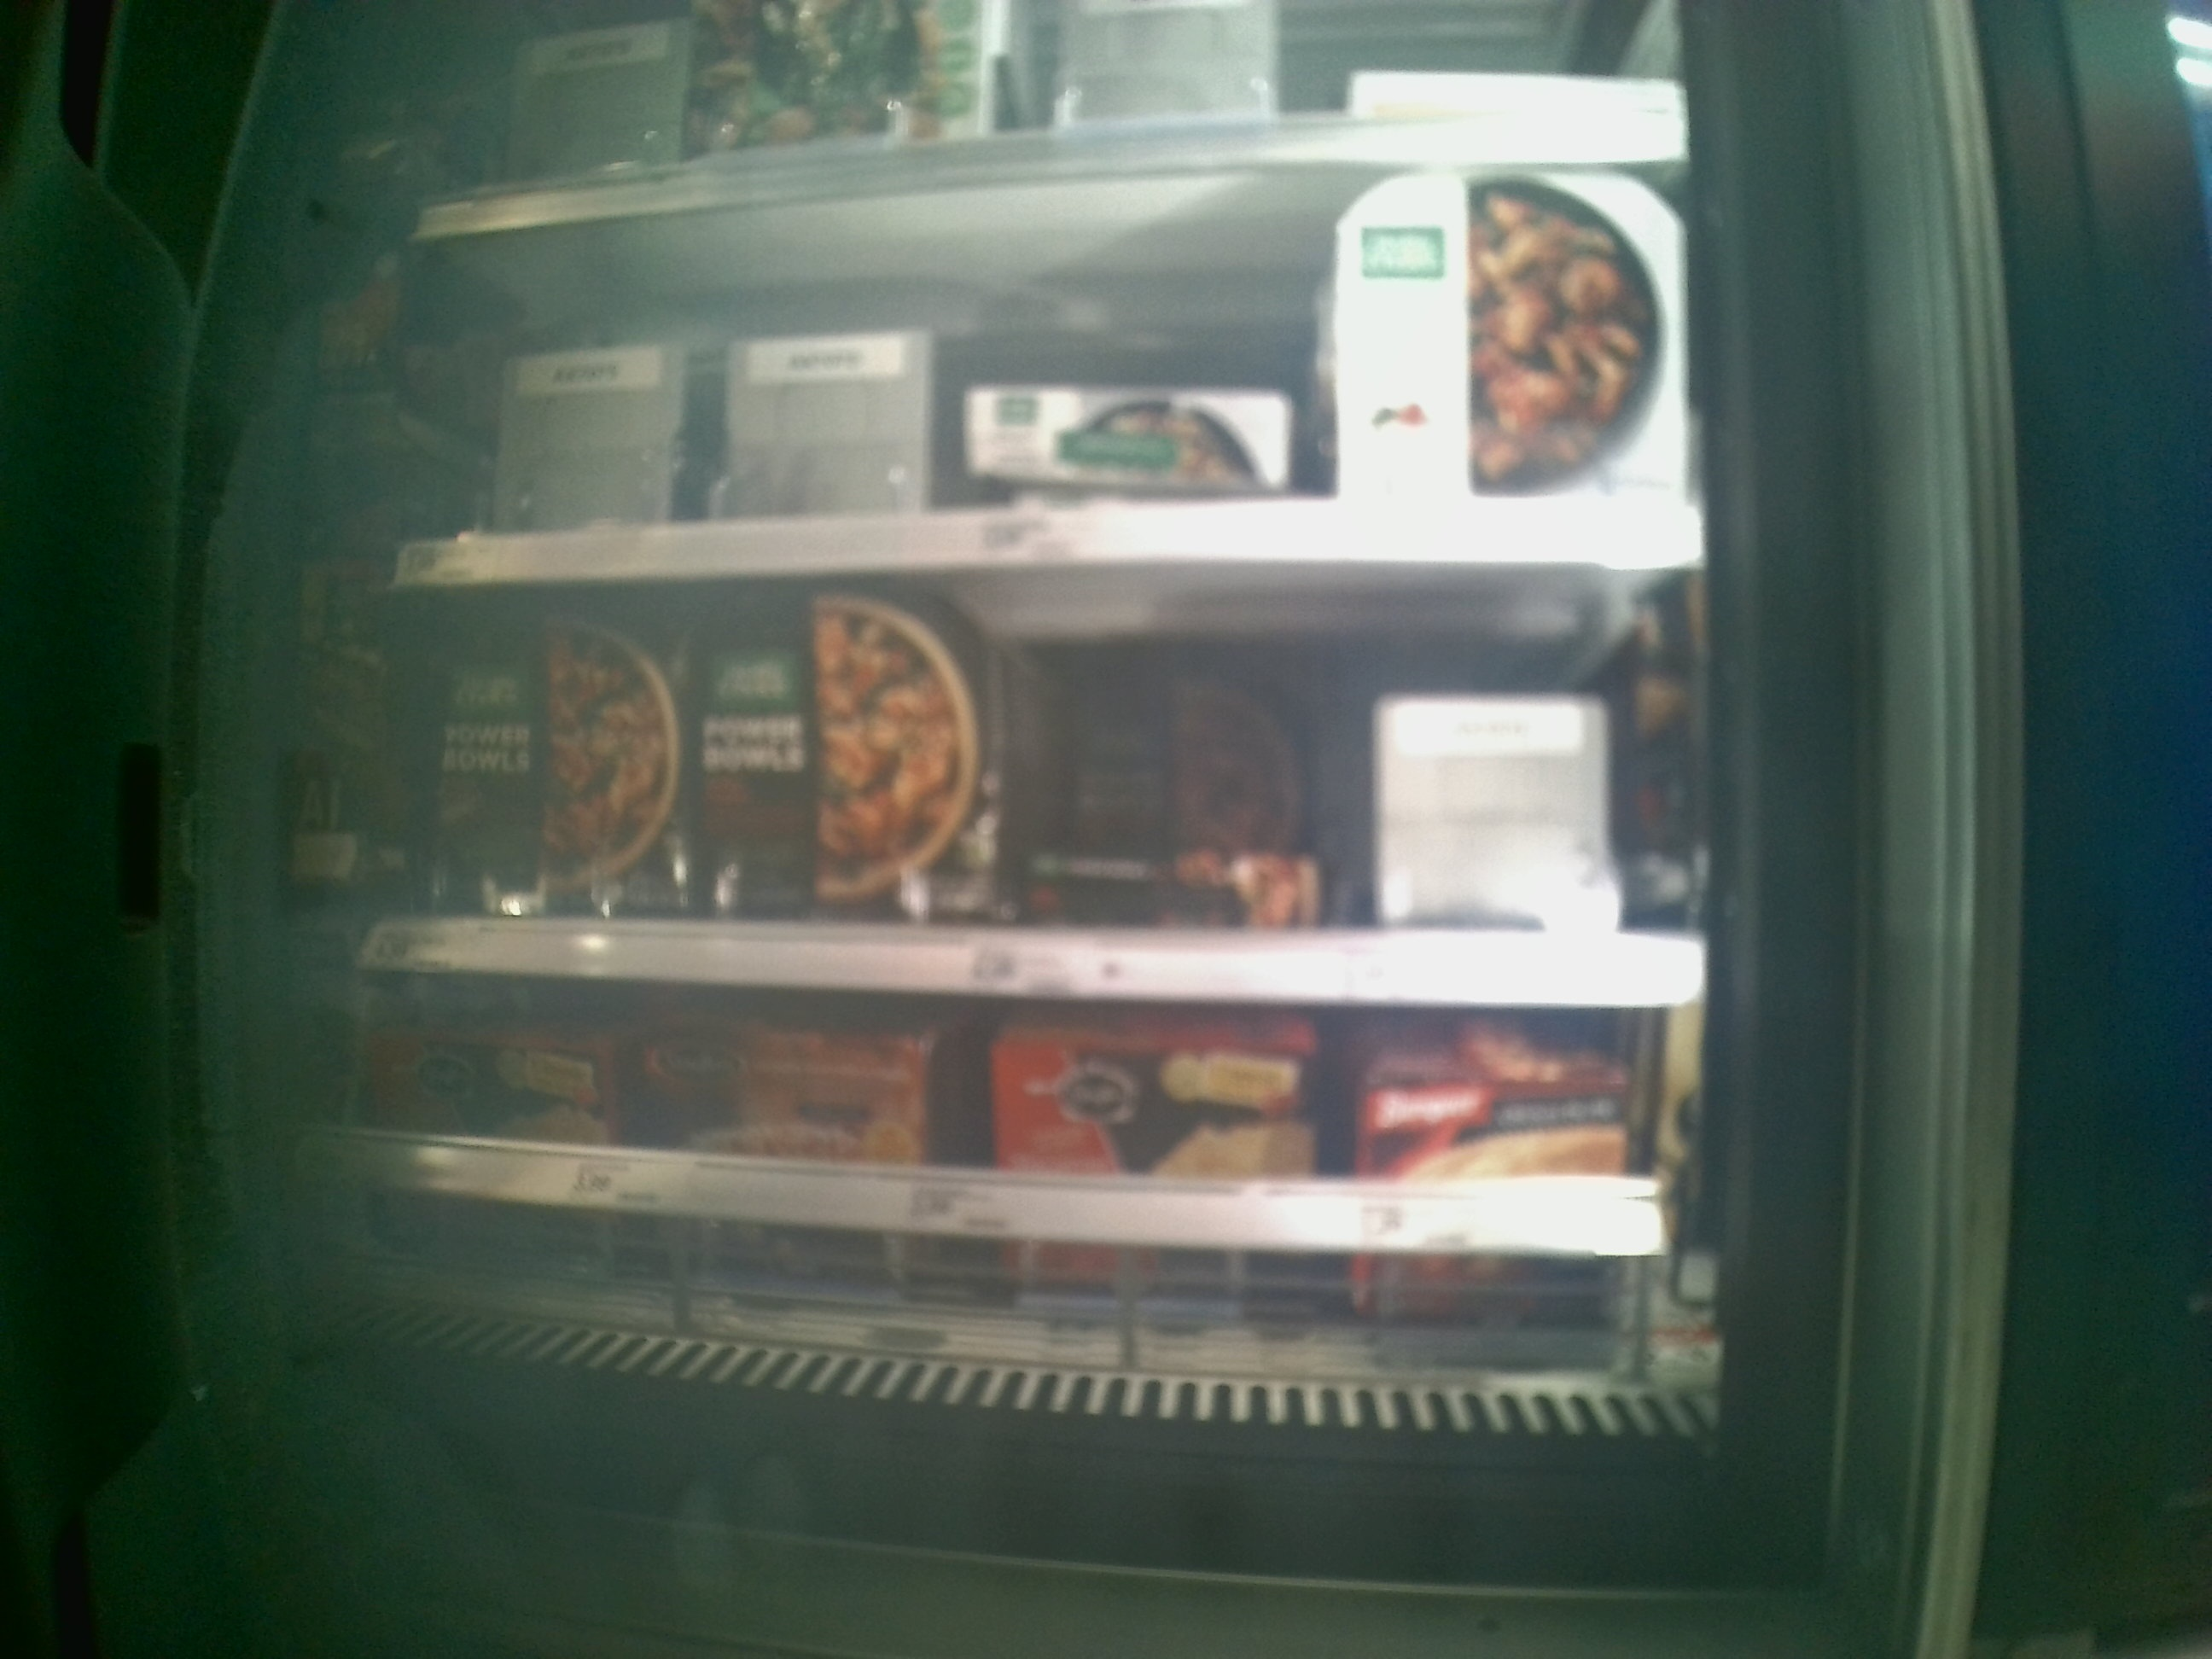shelf: (359, 979, 1726, 1394), (376, 579, 1719, 1000), (387, 162, 1700, 568)
